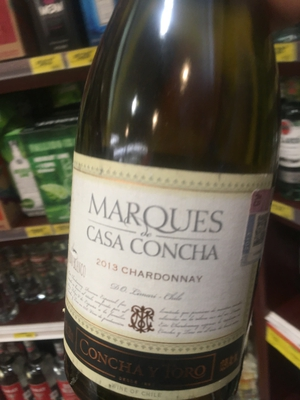marques de casa concha chardonnay: (63, 11, 285, 400)
